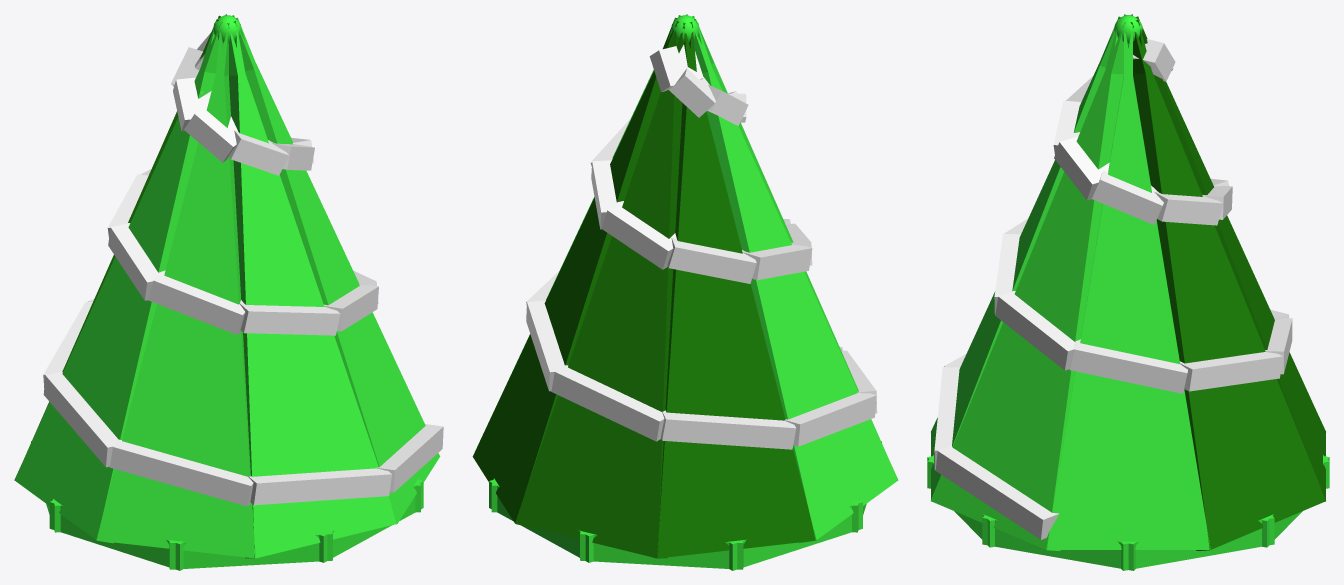
The model's file is CMU3DClothingHeadHatPartyGreenWorldCloud.glb.
3 views of the same model, side by side, from view 1: azimuth 30°, elevation 25°; view 2: azimuth 150°, elevation 25°; view 3: azimuth 270°, elevation 25° (orthographic).
Parts seen in each view (by area): view 1: connected triangular cone panel 05.1, connected triangular cone panel 05.0, connected triangular cone panel 06.0, connected triangular cone panel 06.1, connected triangular cone panel 04.1, connected triangular cone panel 04.0, connected triangular cone panel 07.0, connected triangular cone panel 07.1, source diagonal white spiral 05.0, source diagonal white spiral 06.0, source diagonal white spiral 05.1, source diagonal white spiral 04.0 (+15 smaller); view 2: connected triangular cone panel 03.0, connected triangular cone panel 02.0, connected triangular cone panel 02.1, connected triangular cone panel 03.1, connected triangular cone panel 04.0, connected triangular cone panel 04.1, connected triangular cone panel 01.1, connected triangular cone panel 01.0, source diagonal white spiral 03.0, source diagonal white spiral 02.0, source diagonal white spiral 04.0, source diagonal white spiral 03.1 (+13 smaller); view 3: connected triangular cone panel 00.0, connected triangular cone panel 01.0, connected triangular cone panel 00.1, connected triangular cone panel 07.1, connected triangular cone panel 07.0, connected triangular cone panel 01.1, connected triangular cone panel 02.0, source diagonal white spiral 07.0, connected triangular cone panel 06.1, source diagonal white spiral 00.0, source diagonal white spiral 01.0, source diagonal white spiral 07.1 (+16 smaller).
Part boxes in pixels (x1,y1,x2,y2): connected triangular cone panel 05.1: [172, 22, 255, 558]; connected triangular cone panel 05.0: [96, 23, 229, 548]; connected triangular cone panel 06.0: [229, 21, 328, 558]; connected triangular cone panel 06.1: [227, 23, 397, 539]; connected triangular cone panel 04.1: [56, 19, 218, 543]; connected triangular cone panel 04.0: [14, 22, 222, 505]; connected triangular cone panel 07.0: [236, 17, 416, 527]; connected triangular cone panel 07.1: [233, 21, 439, 481]; source diagonal white spiral 05.0: [109, 439, 253, 506]; source diagonal white spiral 06.0: [248, 468, 391, 505]; source diagonal white spiral 05.1: [148, 271, 245, 334]; source diagonal white spiral 04.0: [43, 371, 118, 467]; connected triangular cone panel 03.0: [654, 22, 740, 558]; connected triangular cone panel 02.0: [515, 23, 685, 539]; connected triangular cone panel 02.1: [585, 21, 682, 558]; connected triangular cone panel 03.1: [683, 22, 816, 548]; connected triangular cone panel 04.0: [694, 19, 856, 543]; connected triangular cone panel 04.1: [689, 22, 897, 505]; connected triangular cone panel 01.1: [496, 17, 676, 528]; connected triangular cone panel 01.0: [473, 21, 678, 481]; source diagonal white spiral 03.0: [660, 410, 796, 449]; source diagonal white spiral 02.0: [551, 365, 664, 441]; source diagonal white spiral 04.0: [784, 393, 876, 446]; source diagonal white spiral 03.1: [667, 237, 756, 283]; connected triangular cone panel 00.0: [1046, 23, 1132, 549]; connected triangular cone panel 01.0: [1133, 19, 1268, 550]; connected triangular cone panel 00.1: [1124, 23, 1210, 549]; connected triangular cone panel 07.1: [988, 19, 1123, 550]; connected triangular cone panel 07.0: [931, 22, 1128, 522]; connected triangular cone panel 01.1: [1128, 22, 1325, 522]; connected triangular cone panel 02.0: [1136, 16, 1325, 501]; source diagonal white spiral 07.0: [935, 445, 1059, 539]; connected triangular cone panel 06.1: [931, 16, 1120, 501]; source diagonal white spiral 00.0: [1069, 340, 1187, 393]; source diagonal white spiral 01.0: [1180, 352, 1282, 391]; source diagonal white spiral 07.1: [995, 291, 1080, 370].
Size of the model in its own units: 0.2741 by 0.353 by 0.2741.
